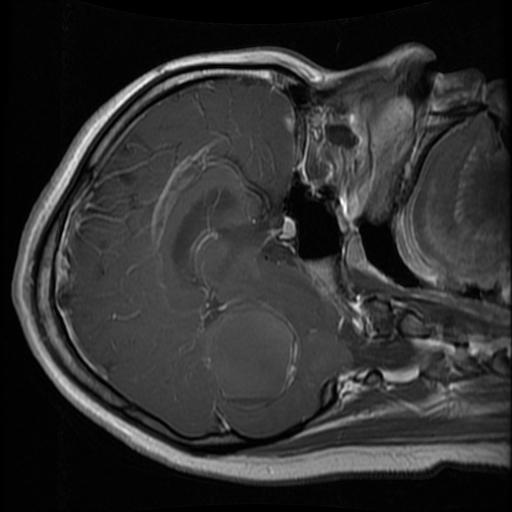glioma: (206, 305, 299, 404)
